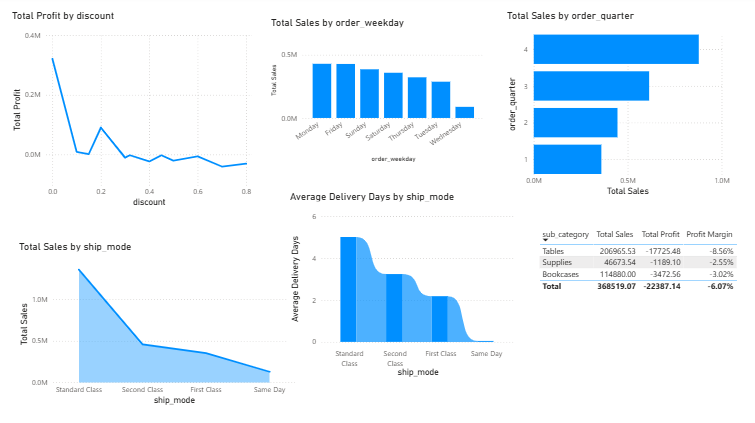

The dashboard page shown, as its layout file describes it:
{"tool":"powerbi","page":{"name":"Operations & Profitability","canvas":[1280,720],"ordinal":2},"visuals":[{"type":"lineChart","fields":{"Category":["Global_Superstore_cleaned.discount"],"Y":["Measures (2).Total Profit"]},"box":[20.2,21.8,413.2,337.6],"z":0},{"type":"stackedAreaChart","fields":{"Y":["Measures (2).Total Sales"],"Category":["Global_Superstore_cleaned.ship_mode"]},"box":[31.9,409.9,473.7,282.2],"z":1000},{"type":"ribbonChart","fields":{"Category":["Global_Superstore_cleaned.ship_mode"],"Y":["Measures (2).Average Delivery Days"]},"box":[483.8,305.7,386.4,319.2],"z":2000},{"type":"clusteredBarChart","fields":{"Category":["Global_Superstore_cleaned.order_quarter"],"Y":["Measures (2).Total Sales"]},"box":[851.7,21.8,384.7,319.2],"z":3000},{"type":"clusteredColumnChart","fields":{"Y":["Measures (2).Total Sales"],"Category":["Global_Superstore_cleaned.order_weekday"]},"box":[455.2,33.6,367.9,250.3],"z":4000},{"type":"tableEx","fields":{"Values":["Global_Superstore_cleaned.sub_category","Measures (2).Total Sales","Measures (2).Total Profit","Measures (2).Profit Margin"]},"box":[905.4,384.7,346,148],"z":5000}]}

Visuals, with their boxes in screenshot pixels (x1, y1, x2, y2), scaled from the page's 1280x720 canvas onto the 755x423 screenshot:
lineChart - Global_Superstore_cleaned.discount x Measures (2).Total Profit: [12,13,256,211]
stackedAreaChart - Measures (2).Total Sales x Global_Superstore_cleaned.ship_mode: [19,241,298,407]
ribbonChart - Global_Superstore_cleaned.ship_mode x Measures (2).Average Delivery Days: [285,180,513,367]
clusteredBarChart - Global_Superstore_cleaned.order_quarter x Measures (2).Total Sales: [502,13,729,200]
clusteredColumnChart - Measures (2).Total Sales x Global_Superstore_cleaned.order_weekday: [268,20,486,167]
tableEx - Global_Superstore_cleaned.sub_category x Measures (2).Total Sales: [534,226,738,313]
